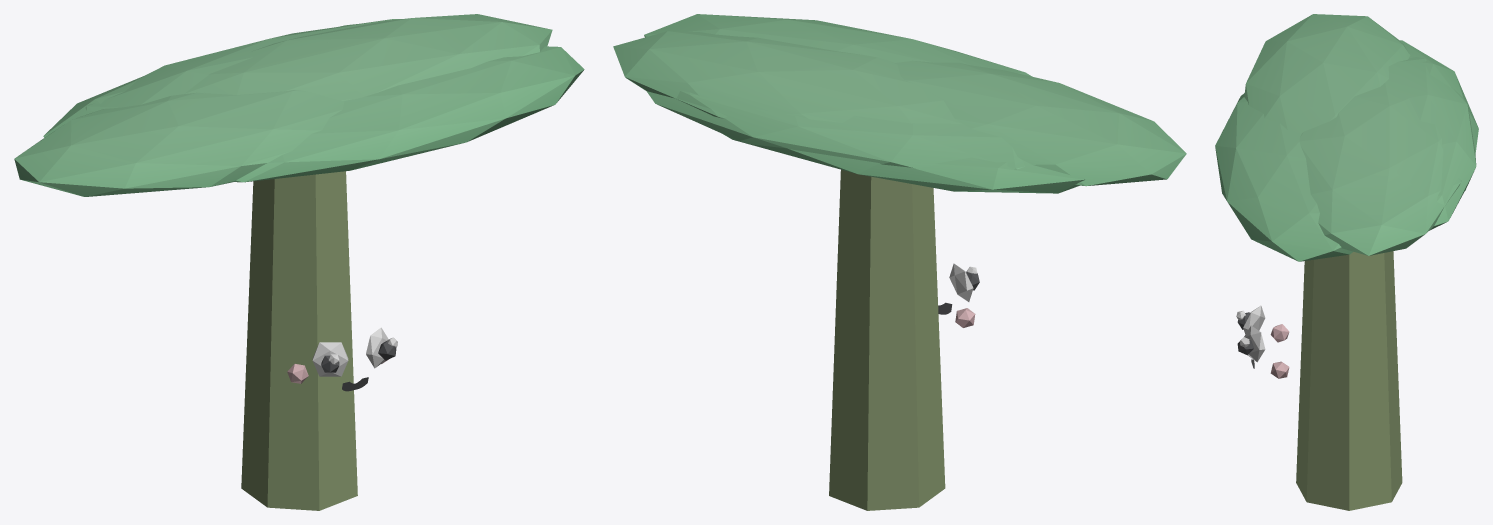
The model's file is costus-woodsonii.glb.
The picture shows the model from 3 angles, left to right: view 1: azimuth 30°, elevation 25°; view 2: azimuth 150°, elevation 25°; view 3: azimuth 270°, elevation 25°; orthographic projection. The views are drawn at different scales.
Visible parts, largest first — view 1: pseudostem, leaf2, leaf1, leaf0, leaf3, leaf4, pface-eye-r; view 2: pseudostem, leaf0, leaf2, leaf3, leaf1, leaf4; view 3: pseudostem, leaf0, leaf2, leaf1, leaf3, leaf4, pface-eye-l, pface-eye-r.
Boxes of the visible parts, bbox=[...] form: pseudostem: bbox=[241, 171, 357, 510]; leaf2: bbox=[14, 90, 344, 196]; leaf1: bbox=[233, 46, 584, 182]; leaf0: bbox=[184, 14, 552, 100]; leaf3: bbox=[85, 19, 401, 111]; leaf4: bbox=[43, 76, 143, 137]; pface-eye-r: bbox=[312, 342, 348, 376]; pseudostem: bbox=[829, 169, 945, 510]; leaf0: bbox=[613, 31, 962, 123]; leaf2: bbox=[895, 60, 1186, 186]; leaf3: bbox=[646, 91, 1024, 169]; leaf1: bbox=[644, 14, 1031, 76]; leaf4: bbox=[723, 134, 1085, 193]; pseudostem: bbox=[1296, 251, 1402, 510]; leaf0: bbox=[1299, 83, 1461, 255]; leaf2: bbox=[1244, 14, 1410, 133]; leaf1: bbox=[1215, 93, 1353, 261]; leaf3: bbox=[1375, 57, 1476, 230]; leaf4: bbox=[1399, 40, 1478, 190]; pface-eye-l: bbox=[1244, 325, 1265, 362]; pface-eye-r: bbox=[1243, 305, 1265, 333].
Bounding box in the file's own units: 0.6235 × 0.4458 × 0.2904.
